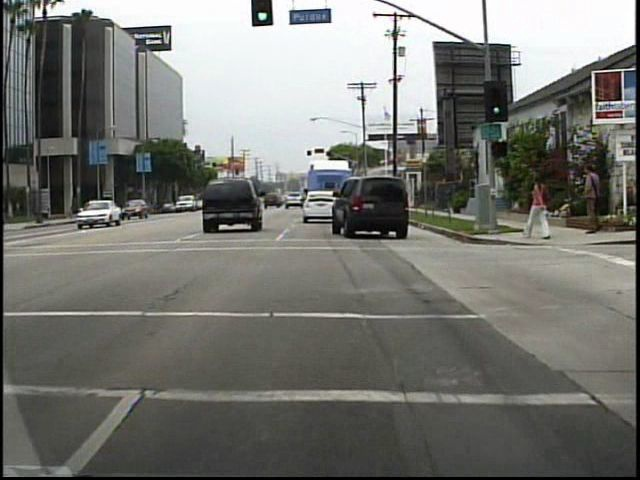person: (574, 157, 605, 240), (520, 172, 553, 245)
